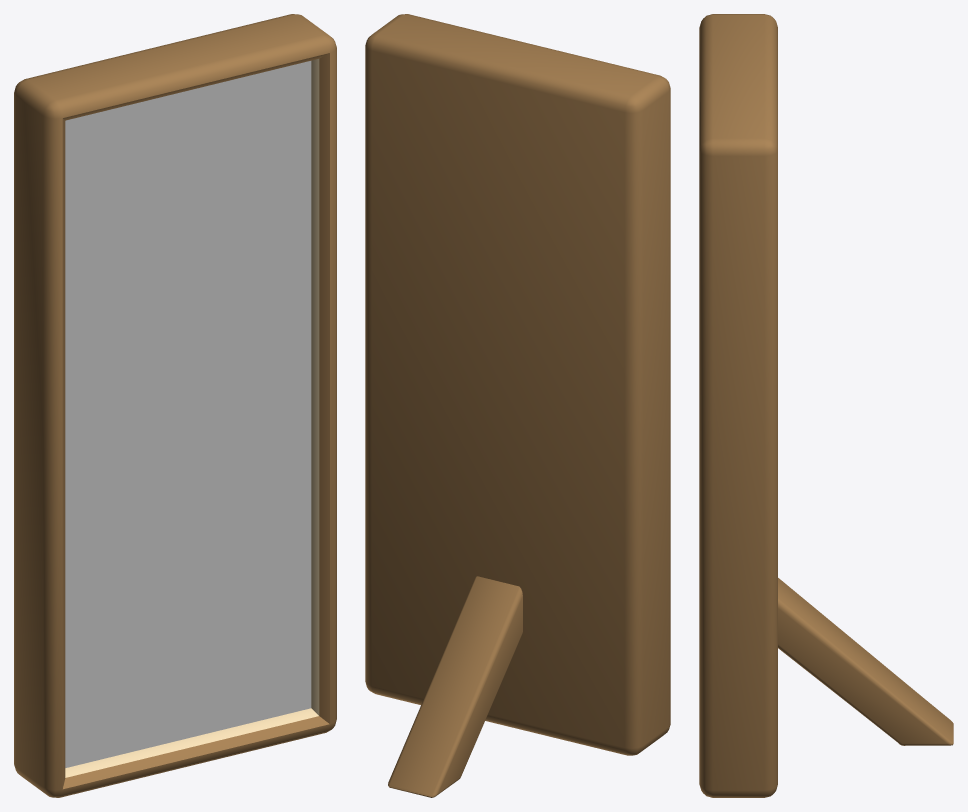
Rendered from Mirror_3C.fbx.
3 renders of one model, left to right at view 1: azimuth 30°, elevation 25°; view 2: azimuth 150°, elevation 25°; view 3: azimuth 270°, elevation 25°, orthographic. The views are drawn at different scales.
Visible parts, largest first — view 1: Mirror_3C; view 2: Mirror_3C; view 3: Mirror_3C.
Part boxes in pixels (left/top/right/bottom): Mirror_3C: left=14, top=14, right=336, bottom=797; Mirror_3C: left=365, top=14, right=670, bottom=797; Mirror_3C: left=699, top=14, right=953, bottom=797.
Size of the model in its own units: 0.532 by 1.21 by 0.4244.
